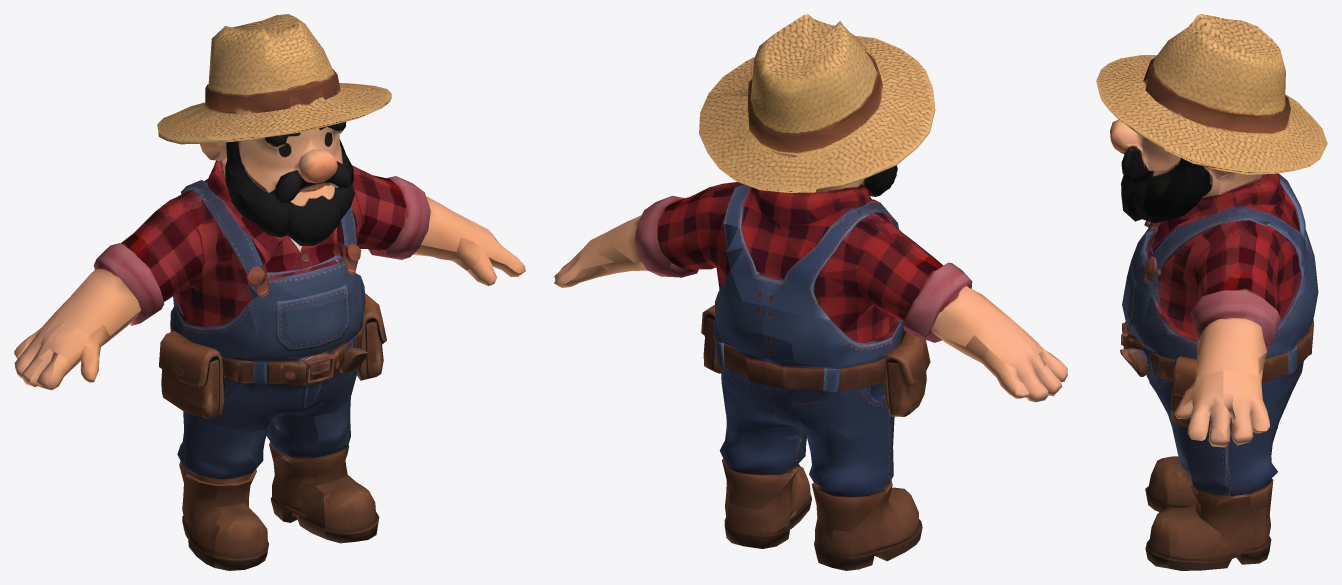
Rendered from Meshy_AI_Harvest_Helper_20260721_texture.glb.
3 views of the same model, side by side, from view 1: azimuth 30°, elevation 25°; view 2: azimuth 150°, elevation 25°; view 3: azimuth 270°, elevation 25° (orthographic).
Visible parts, largest first — view 1: mesh_node; view 2: mesh_node; view 3: mesh_node.
Part boxes in pixels (left/top/right/bottom): mesh_node: left=14, top=14, right=525, bottom=570; mesh_node: left=554, top=14, right=1067, bottom=570; mesh_node: left=1096, top=14, right=1327, bottom=570.
Bounding box in the file's own units: 0.998 × 0.9961 × 0.4111.
1 material, 1 textured.
